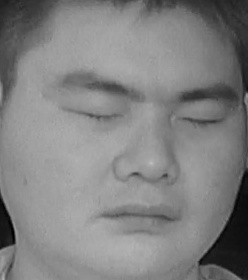blink: (65, 96, 130, 133), (179, 101, 227, 133)
mouth: (96, 191, 178, 240)
